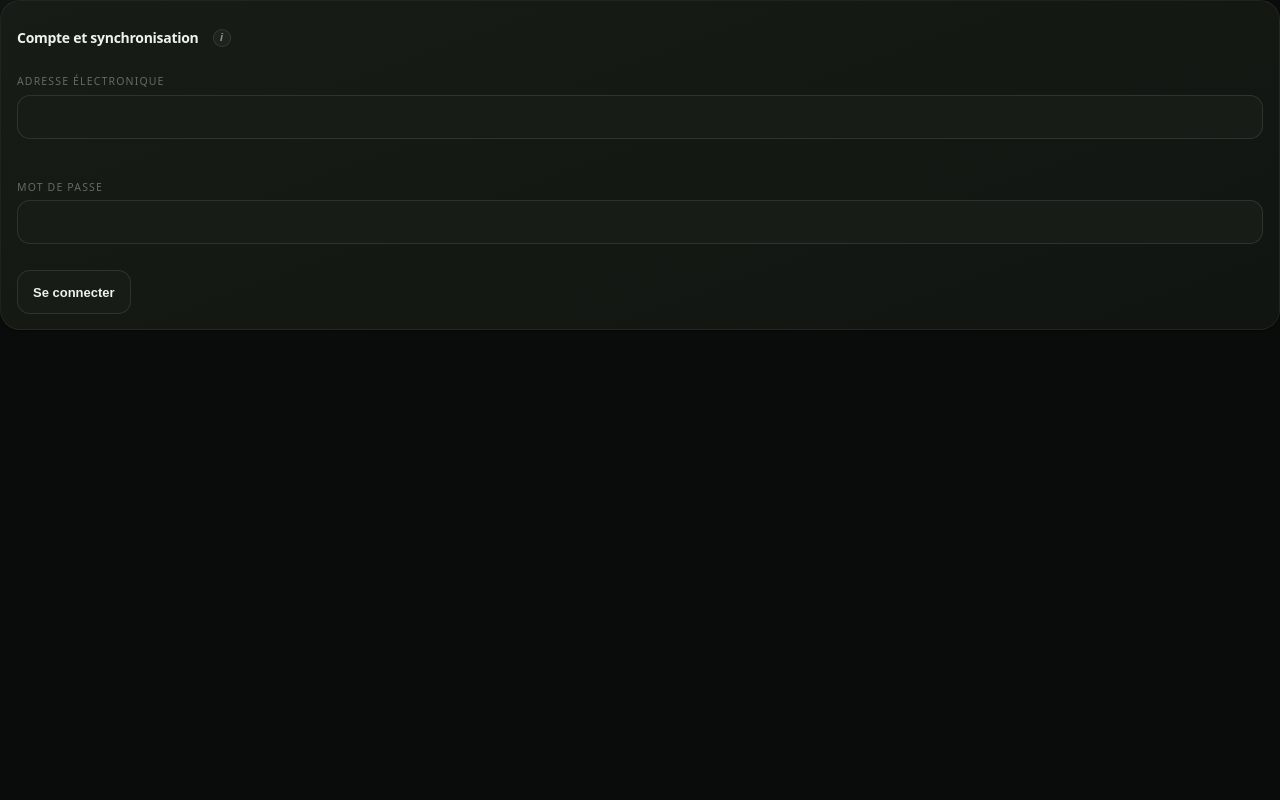
envoi sur le compte › interdit l’envoi tant que l’état du compte est inconnu
The width and height of the screenshot is (1280, 800).
Type "demo@exemple.test" into the field labelled "Adresse électronique". click: point(640, 117)
box: x1=17 y1=95 x2=1263 y2=139
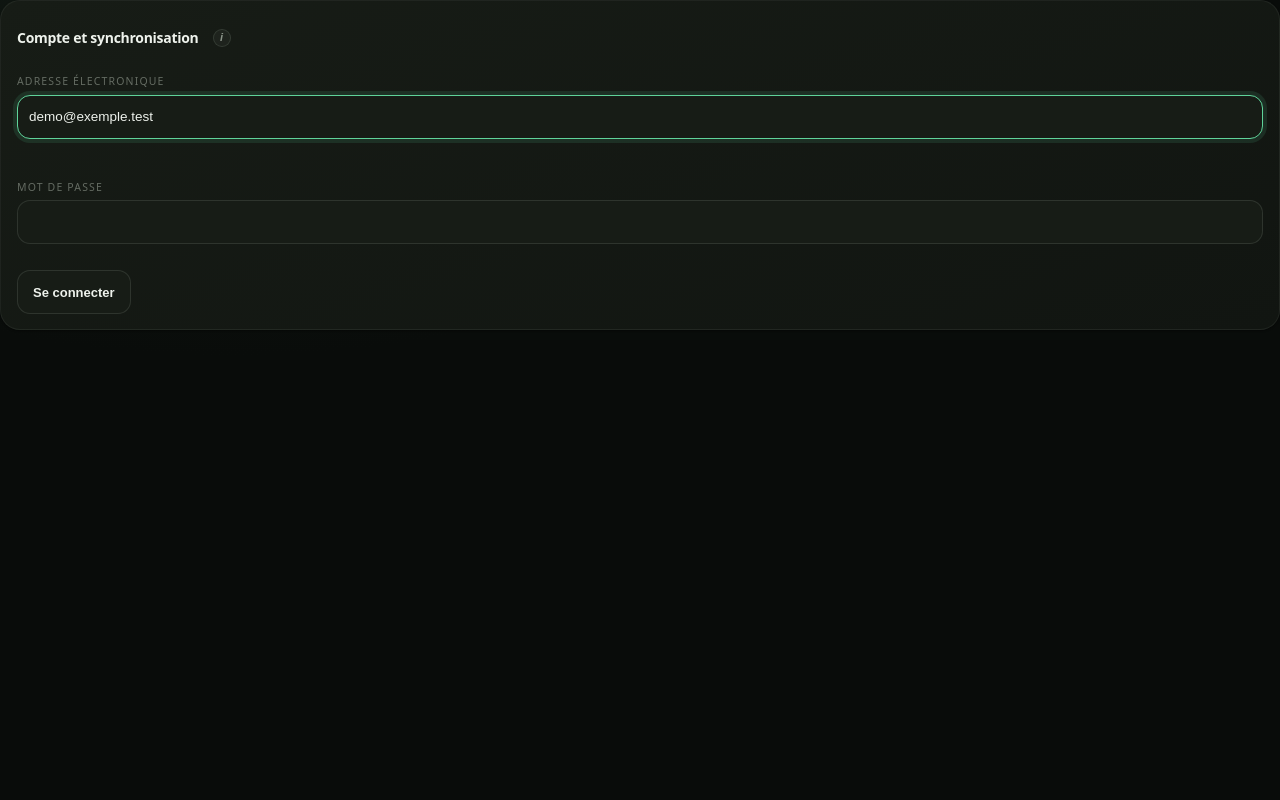
Type "motdepasse" into the password field labelled "Mot de passe". click: point(640, 222)
box: x1=17 y1=200 x2=1263 y2=244
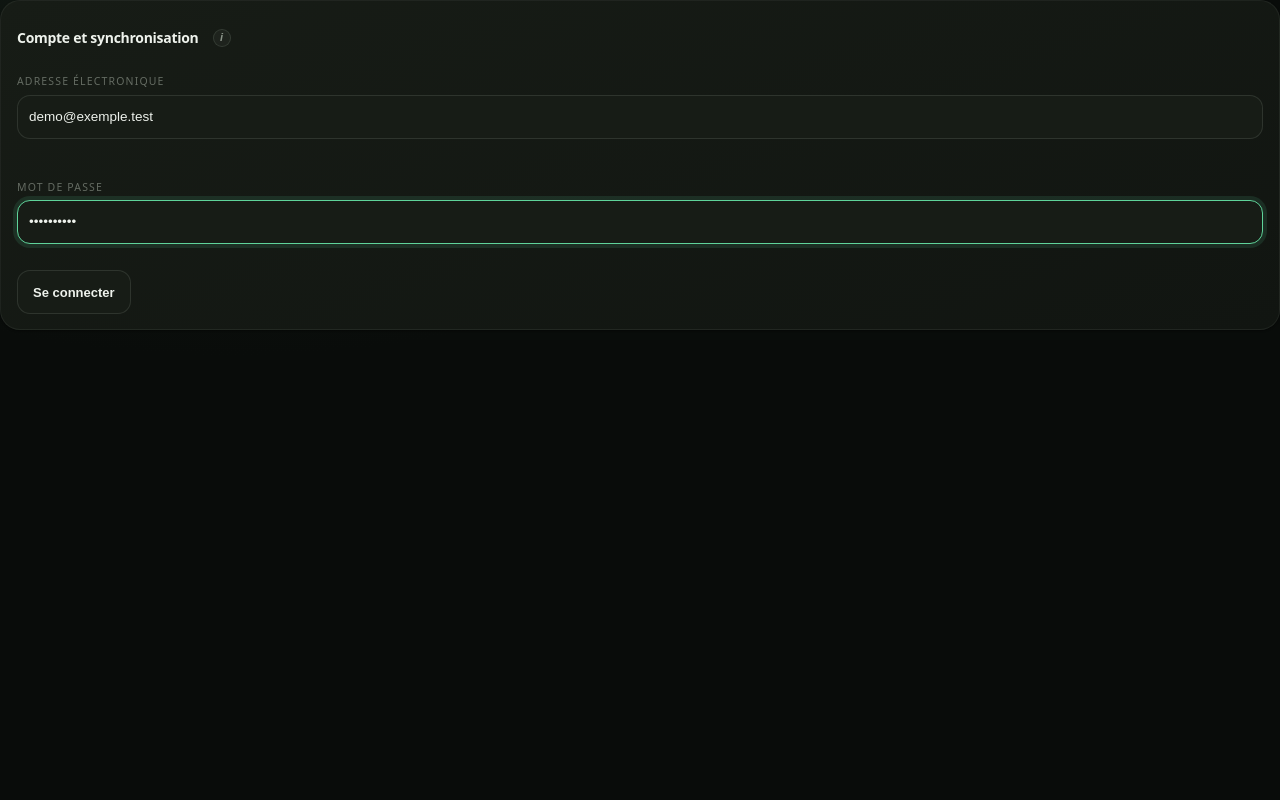
Click the button "Se connecter". click: point(74, 292)
box: x1=17 y1=270 x2=131 y2=314
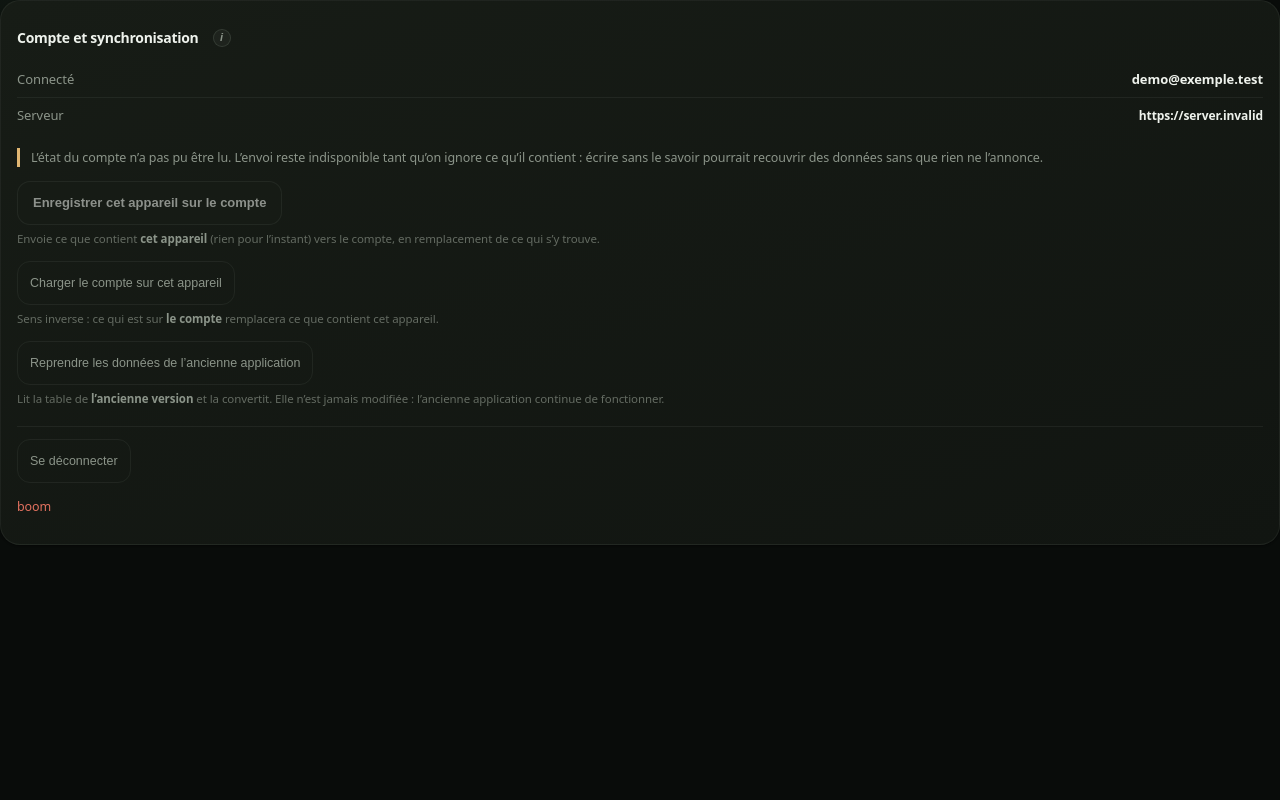
Result: the button "Enregistrer cet appareil sur le compte" is disabled at x1=17 y1=181 x2=282 y2=225
Result: the text "L’envoi reste indisponible" is shown at x1=31 y1=149 x2=1043 y2=166
